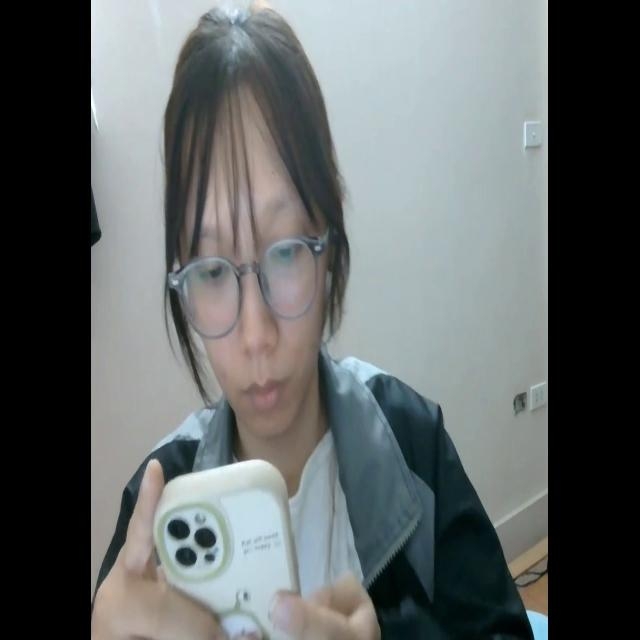phone: (154, 457, 302, 640)
student: (97, 0, 529, 640)
